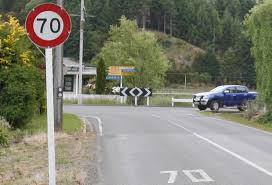Speed_limit_70km: (25, 3, 72, 48)
